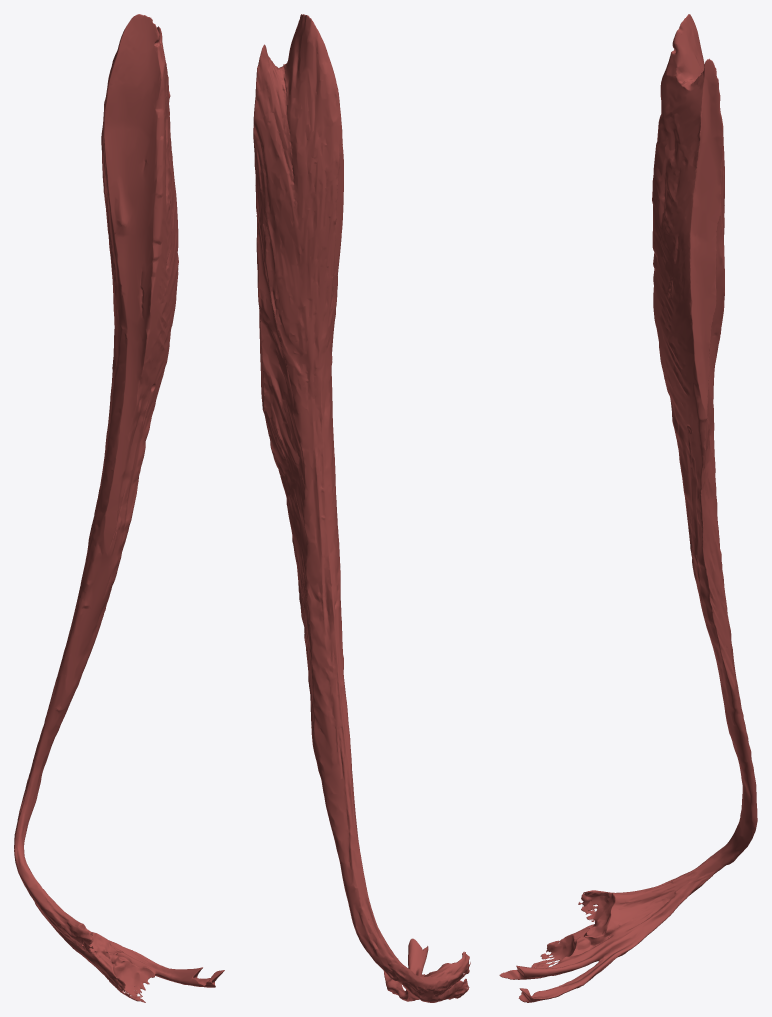
The model's file is FMA65019.glb.
3 renders of one model, left to right at view 1: azimuth 30°, elevation 25°; view 2: azimuth 150°, elevation 25°; view 3: azimuth 270°, elevation 25°, orthographic. The views are drawn at different scales.
Visible parts, largest first — view 1: FMA65019; view 2: FMA65019; view 3: FMA65019.
Boxes of the visible parts, bbox=[...] form: FMA65019: bbox=[14, 14, 224, 1002]; FMA65019: bbox=[253, 14, 470, 1002]; FMA65019: bbox=[499, 14, 757, 1002].
Size of the model in its own units: 0.057 by 0.3329 by 0.0786.
